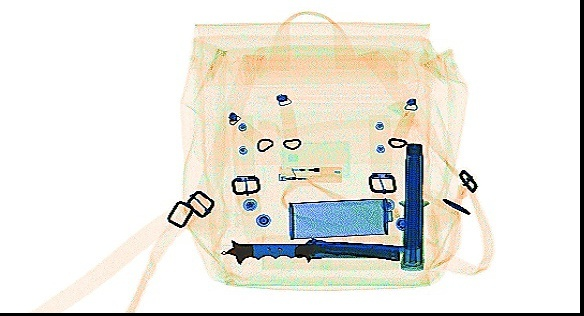knife: (217, 237, 402, 266), (291, 236, 400, 264)
lighter: (275, 161, 342, 184)
zippooil: (285, 194, 392, 240)
